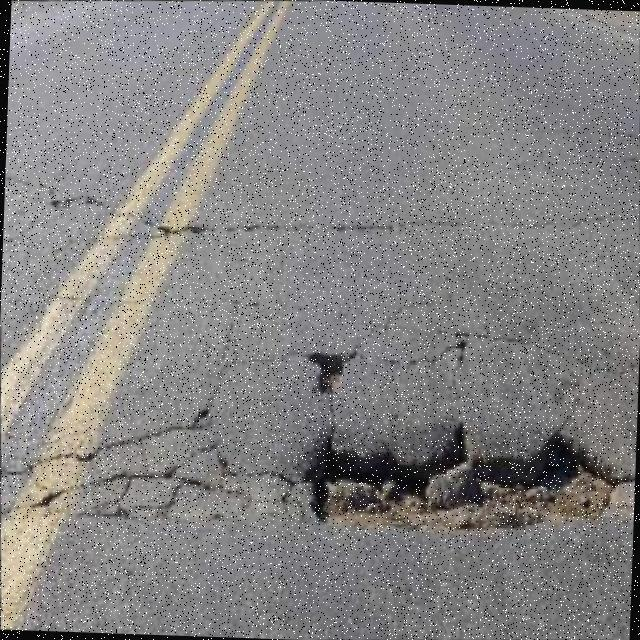Pothole: (302, 423, 628, 529)
